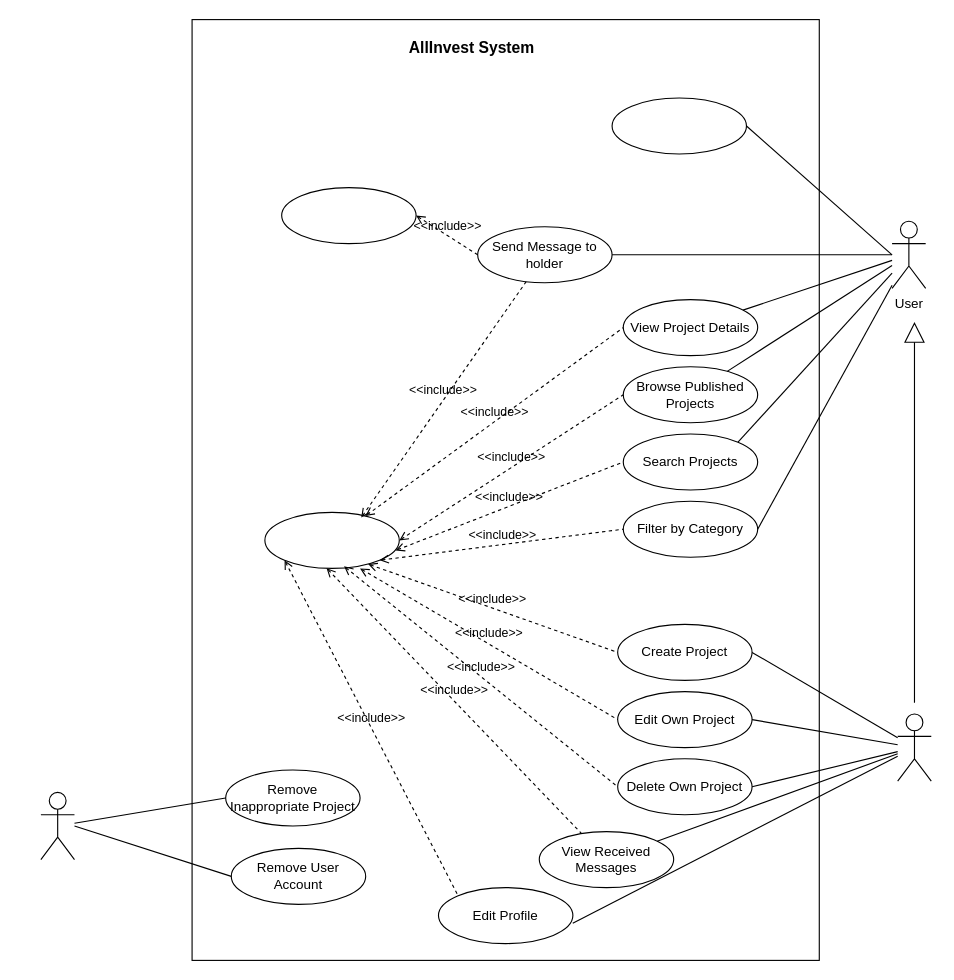
This 954x980 diagram has some shape labels left out. Each missing label, with the box of its shape:
administrator: (40, 791, 74, 860)
Holder: (897, 713, 931, 781)
Log in: (264, 511, 399, 568)
Notify Holder by Email: (281, 186, 416, 244)
Register: (611, 97, 746, 154)
